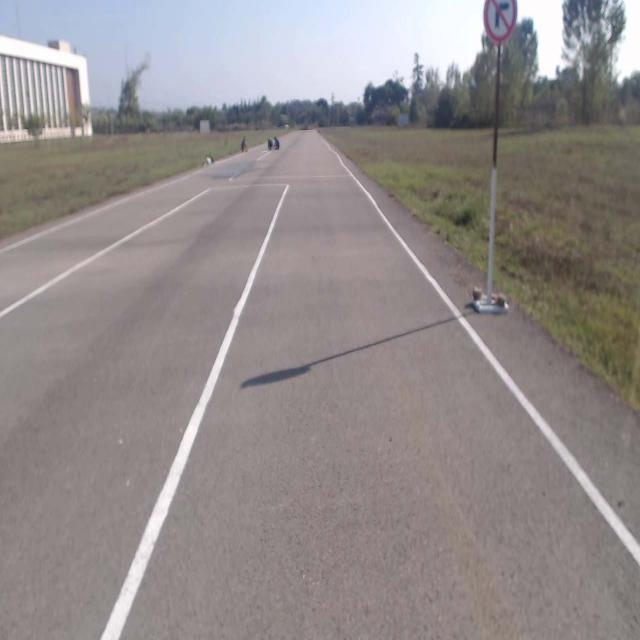sagadonulmez: (484, 1, 517, 42)
